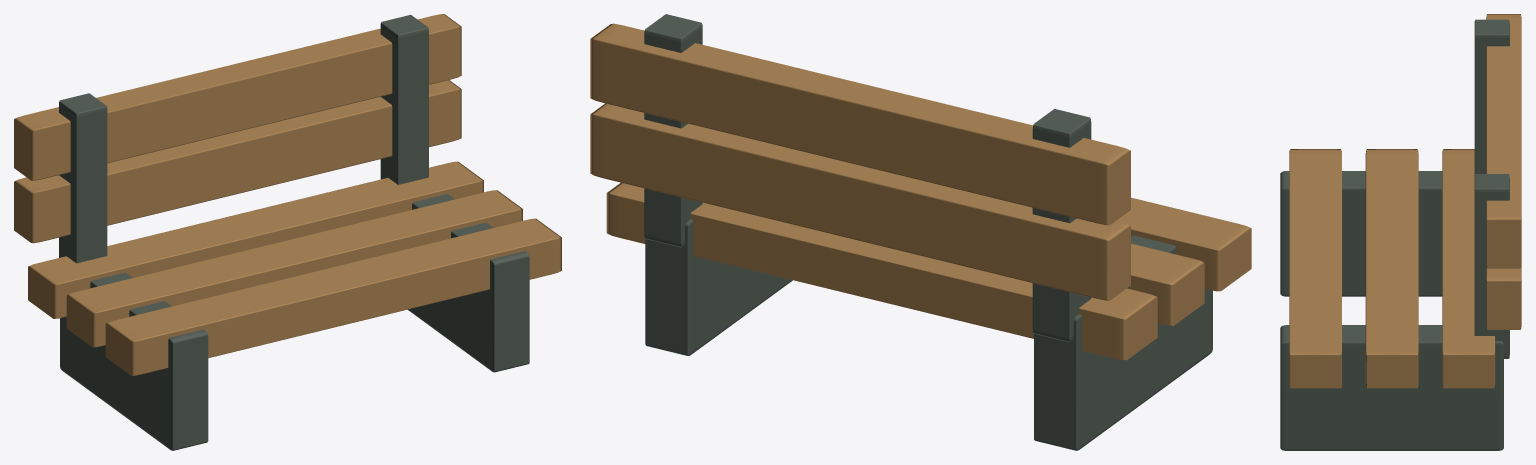
The model's file is bench-0.glb.
The picture shows the model from 3 angles, left to right: view 1: azimuth 30°, elevation 25°; view 2: azimuth 150°, elevation 25°; view 3: azimuth 270°, elevation 25°; orthographic projection. The views are drawn at different scales.
Visible parts, largest first — view 1: bench-0-0; view 2: bench-0-0; view 3: bench-0-0.
Boxes of the visible parts, x1=… form: bench-0-0: x1=14, y1=14, x2=561, y2=450; bench-0-0: x1=590, y1=14, x2=1251, y2=450; bench-0-0: x1=1280, y1=14, x2=1521, y2=450.
Bounding box in the file's own units: 0.83 × 0.4905 × 0.41.
